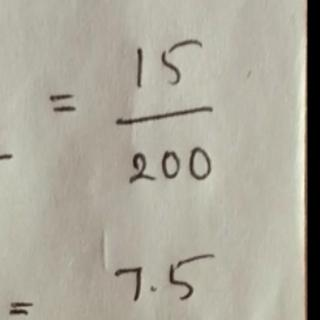.: (147, 281, 163, 296)
0: (191, 146, 216, 183), (161, 149, 181, 184)
1: (138, 43, 146, 91)
2: (130, 154, 155, 183)
5: (161, 35, 205, 85), (168, 253, 212, 302)
7: (114, 265, 143, 304)
